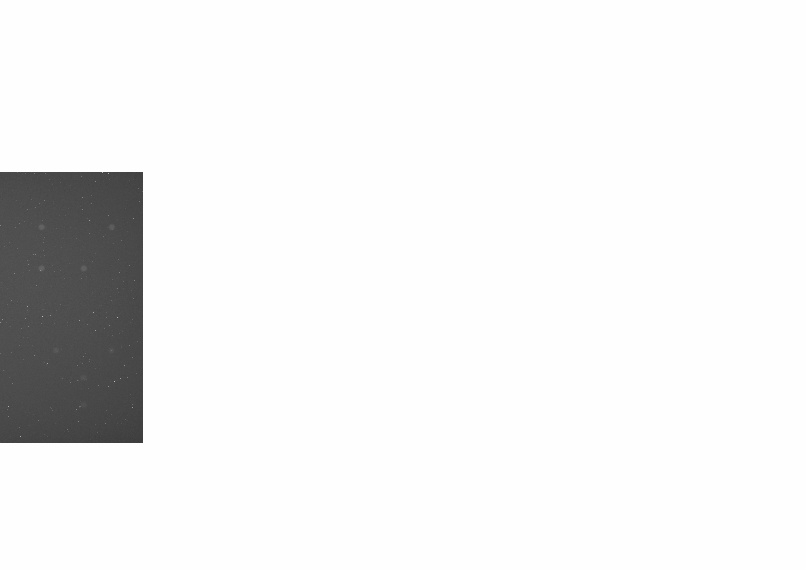bubble: (38, 264, 45, 272), (52, 347, 60, 354), (38, 224, 45, 231), (80, 266, 88, 272), (80, 374, 88, 380), (108, 224, 115, 230), (108, 347, 115, 353), (81, 402, 87, 407)
